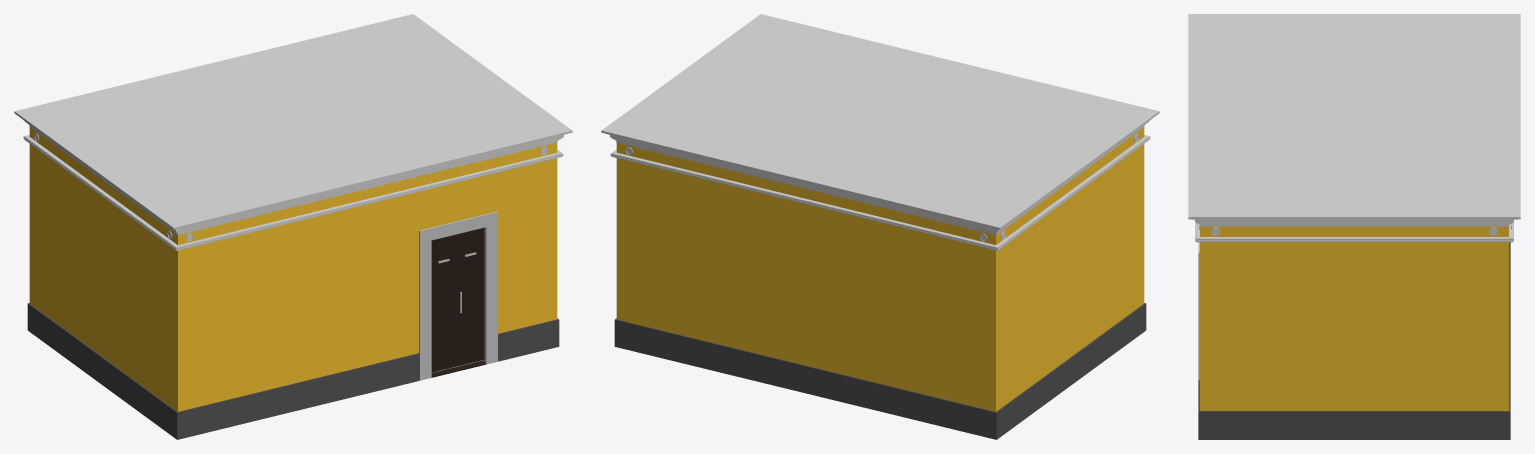
File: Existing Albergue_left 小房子.gltf
3 views of the same model, side by side, from view 1: azimuth 30°, elevation 25°; view 2: azimuth 150°, elevation 25°; view 3: azimuth 270°, elevation 25° (orthographic). The views are drawn at different scales.
Visible parts, largest first — view 1: root; view 2: root; view 3: root.
Part boxes in pixels (box(x1,y1,x2,y2)): root: box(14, 14, 572, 439); root: box(601, 14, 1159, 439); root: box(1188, 14, 1520, 439).
Bounding box in the file's own units: 6.13 × 3.2 × 4.25.
